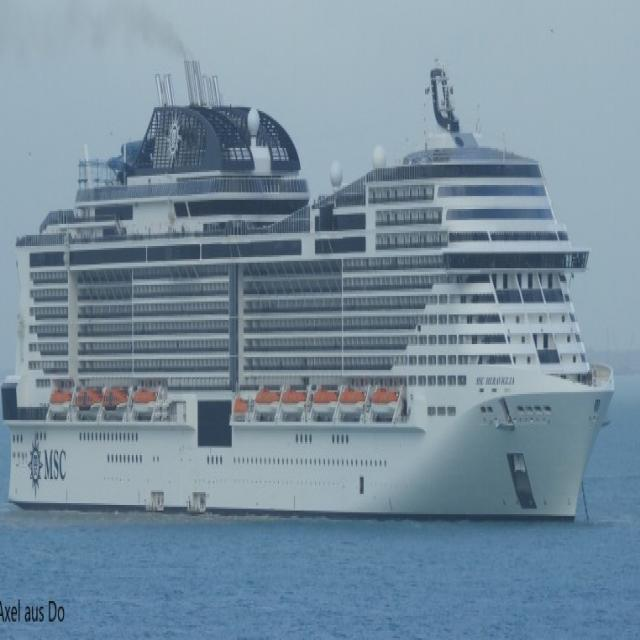cruises: (1, 45, 619, 534)
